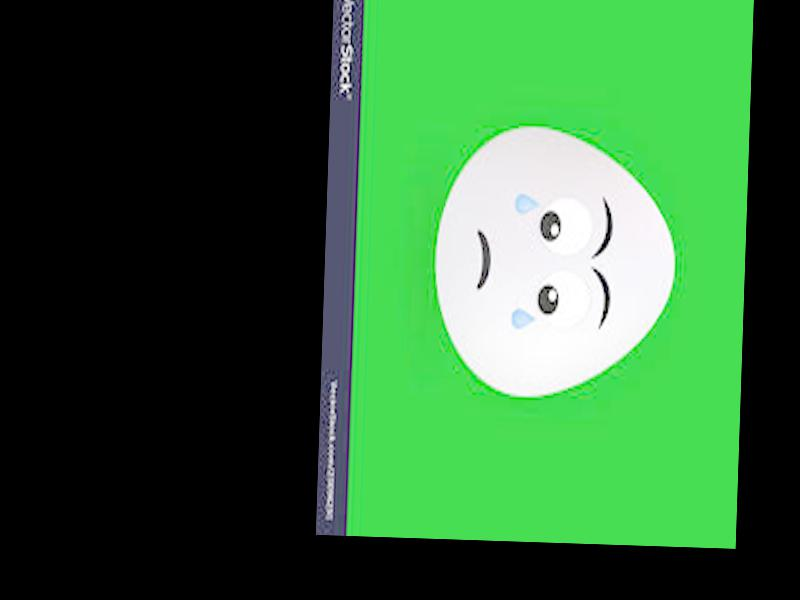Eggs: (432, 121, 677, 399)
